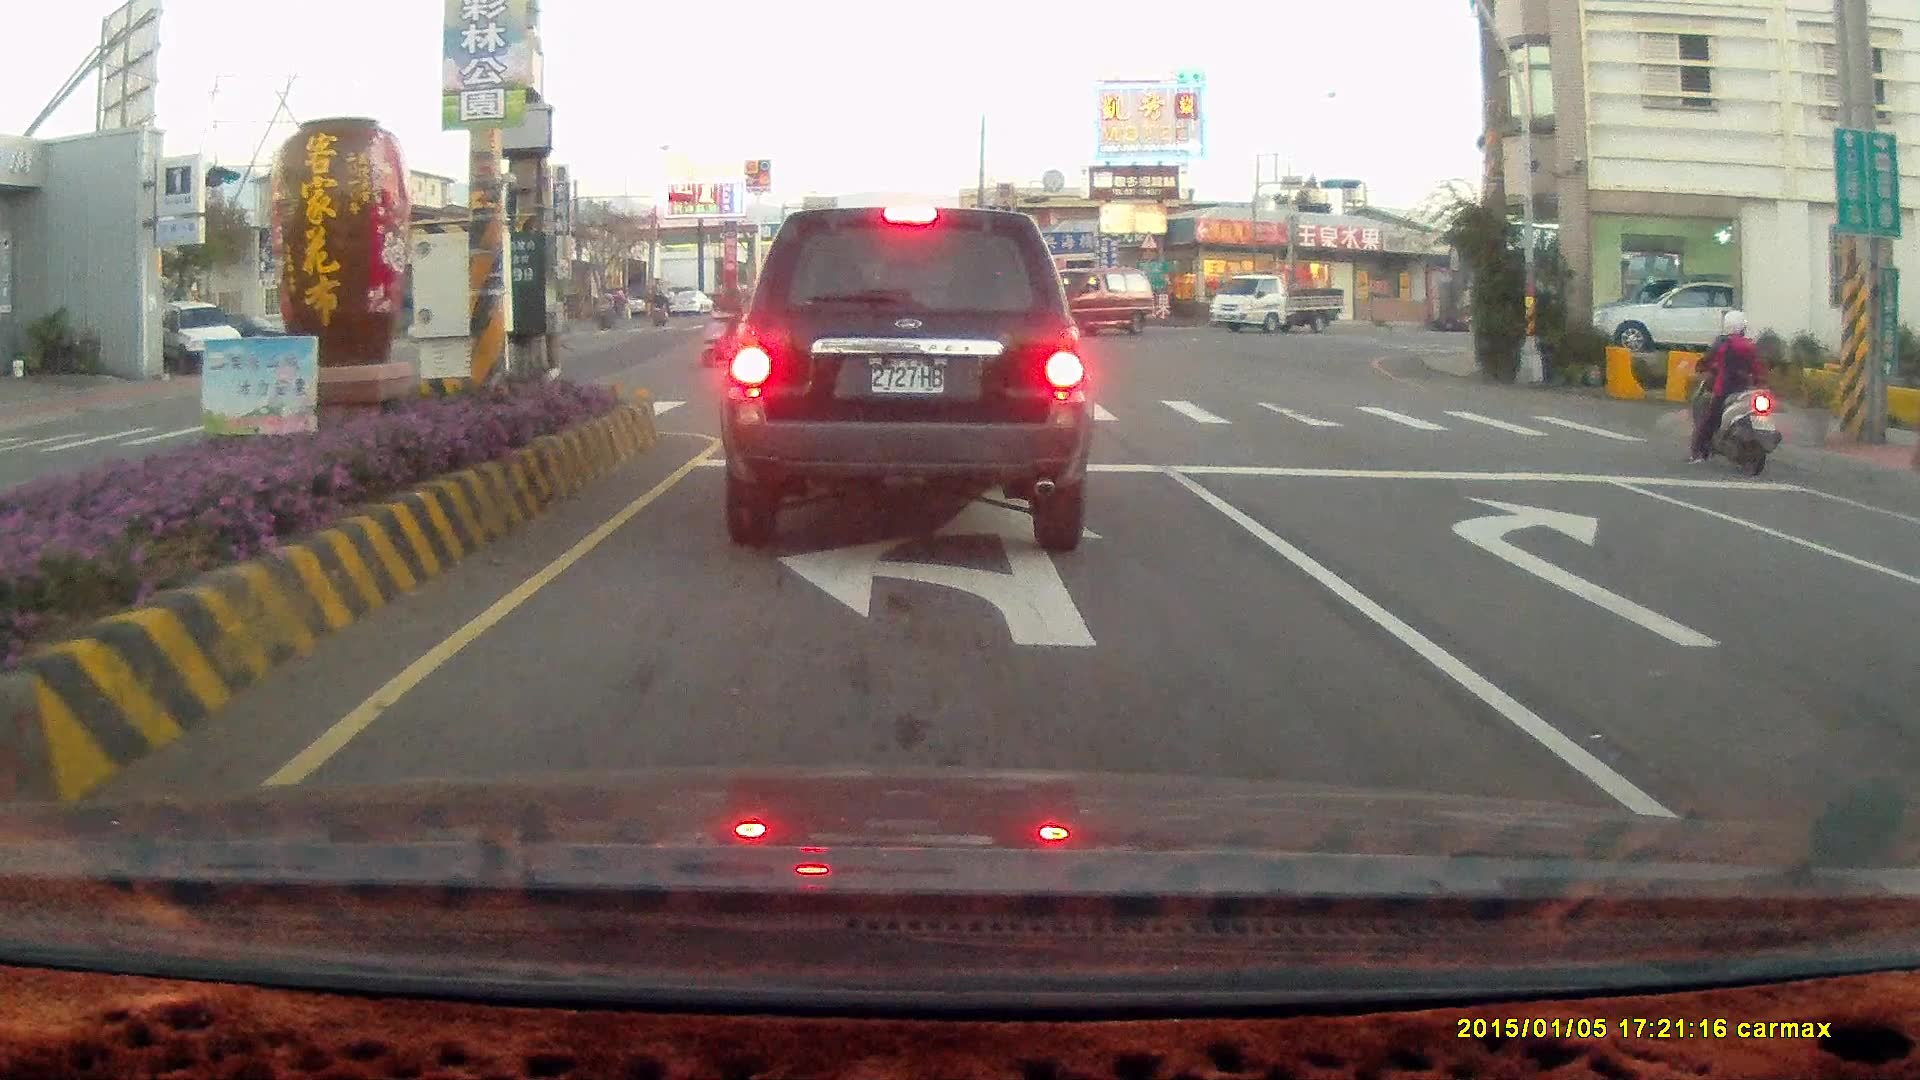rider: (1687, 308, 1782, 475), (697, 280, 756, 369), (593, 288, 620, 328), (651, 289, 672, 326)
vehicle: (717, 204, 1094, 552), (1580, 274, 1780, 352), (1597, 280, 1732, 350), (1024, 267, 1151, 337), (1209, 274, 1348, 339), (1024, 268, 1152, 338), (135, 298, 242, 377), (1896, 493, 1920, 836), (1883, 528, 1920, 690)
